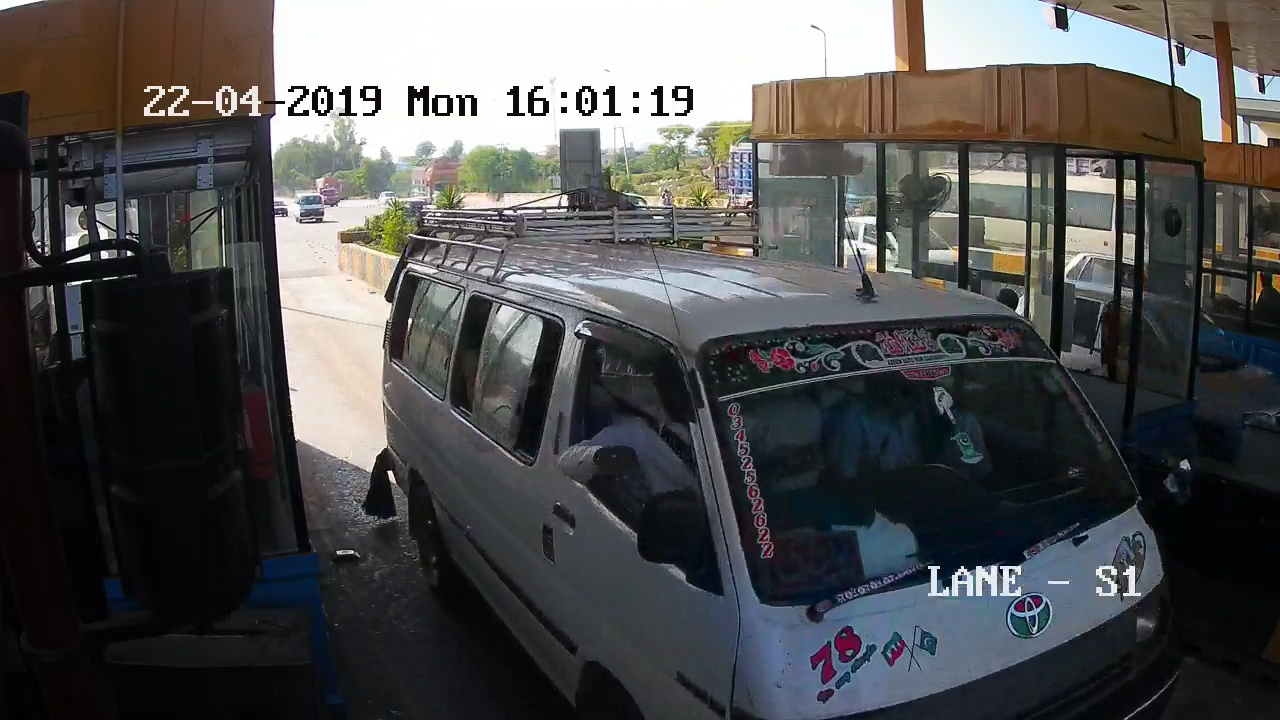car: (369, 241, 1117, 720)
